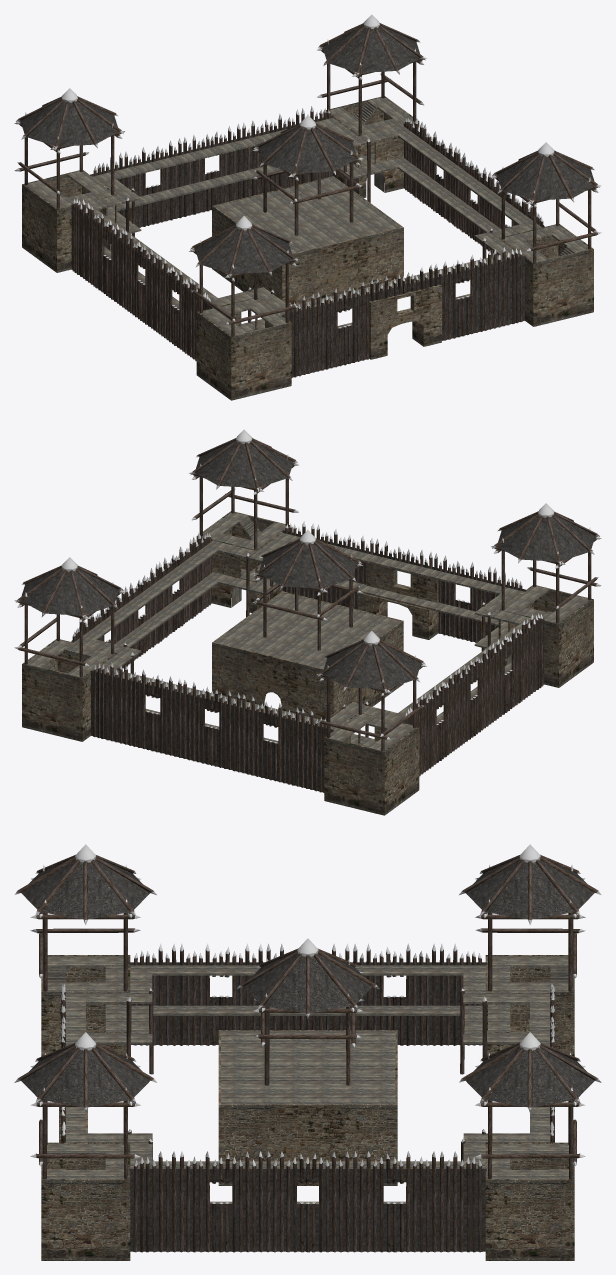
File: fortLOD_Z.dae
3 views of the same model, one above another, from view 1: azimuth 30°, elevation 25°; view 2: azimuth 150°, elevation 25°; view 3: azimuth 270°, elevation 25° (orthographic). The views are drawn at different scales.
Visible parts, largest first — view 1: Fort_Logs1500, Fort_Mud1500, Fort_Stone1500, Fort_Wood1500, Fort_Tops1500, polySurface1; view 2: Fort_Logs1500, Fort_Mud1500, Fort_Stone1500, Fort_Wood1500, Fort_Tops1500, polySurface1; view 3: Fort_Logs1500, Fort_Mud1500, Fort_Wood1500, Fort_Stone1500, Fort_Tops1500, polySurface1.
Part boxes in pixels (x1,y1,x2,y2): Fort_Logs1500: (18,23,597,377); Fort_Mud1500: (20,25,594,377); Fort_Stone1500: (22,96,593,400); Fort_Wood1500: (26,97,588,335); Fort_Tops1500: (14,32,601,328); polySurface1: (61,14,554,230); Fort_Logs1500: (18,438,597,792); Fort_Mud1500: (21,440,595,792); Fort_Stone1500: (22,511,593,815); Fort_Wood1500: (27,512,589,750); Fort_Tops1500: (14,447,601,743); polySurface1: (61,429,554,645); Fort_Logs1500: (17,854,598,1252); Fort_Mud1500: (21,859,594,1251); Fort_Wood1500: (46,956,569,1204); Fort_Stone1500: (41,955,574,1260); Fort_Tops1500: (14,865,601,1203); polySurface1: (75,844,540,1050).
Size of what is drawn, in the model's own units: 65.73 by 25.94 by 65.76.
